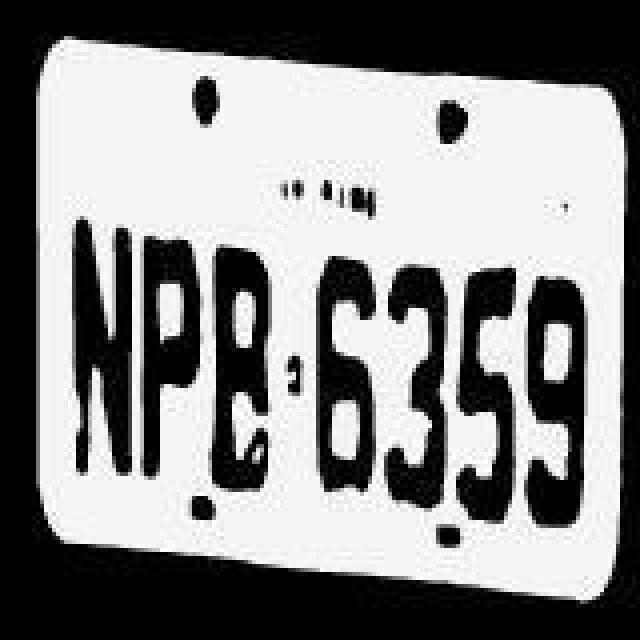3: (382, 256, 450, 520)
5: (454, 264, 522, 528)
6: (308, 246, 380, 506)
9: (518, 264, 594, 536)
B: (208, 236, 280, 500)
N: (64, 202, 136, 486)
P: (134, 228, 202, 484)
